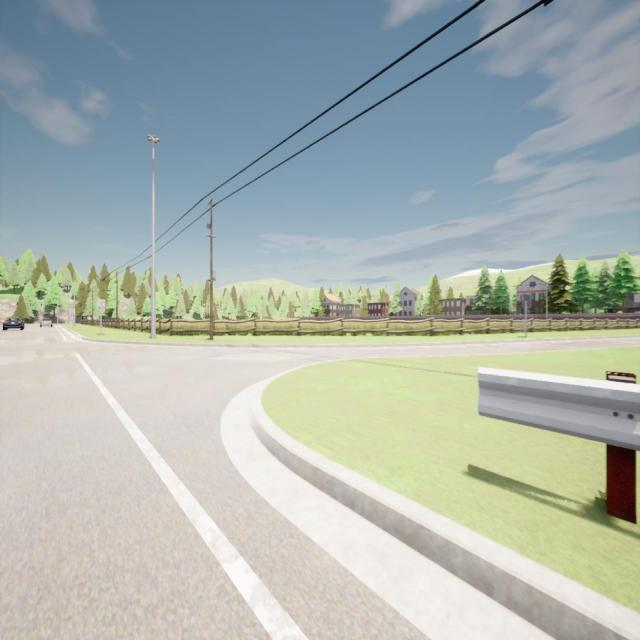Traffic_Signs: (98, 299, 105, 310)
Vehicle: (3, 316, 24, 331), (40, 318, 53, 327)
